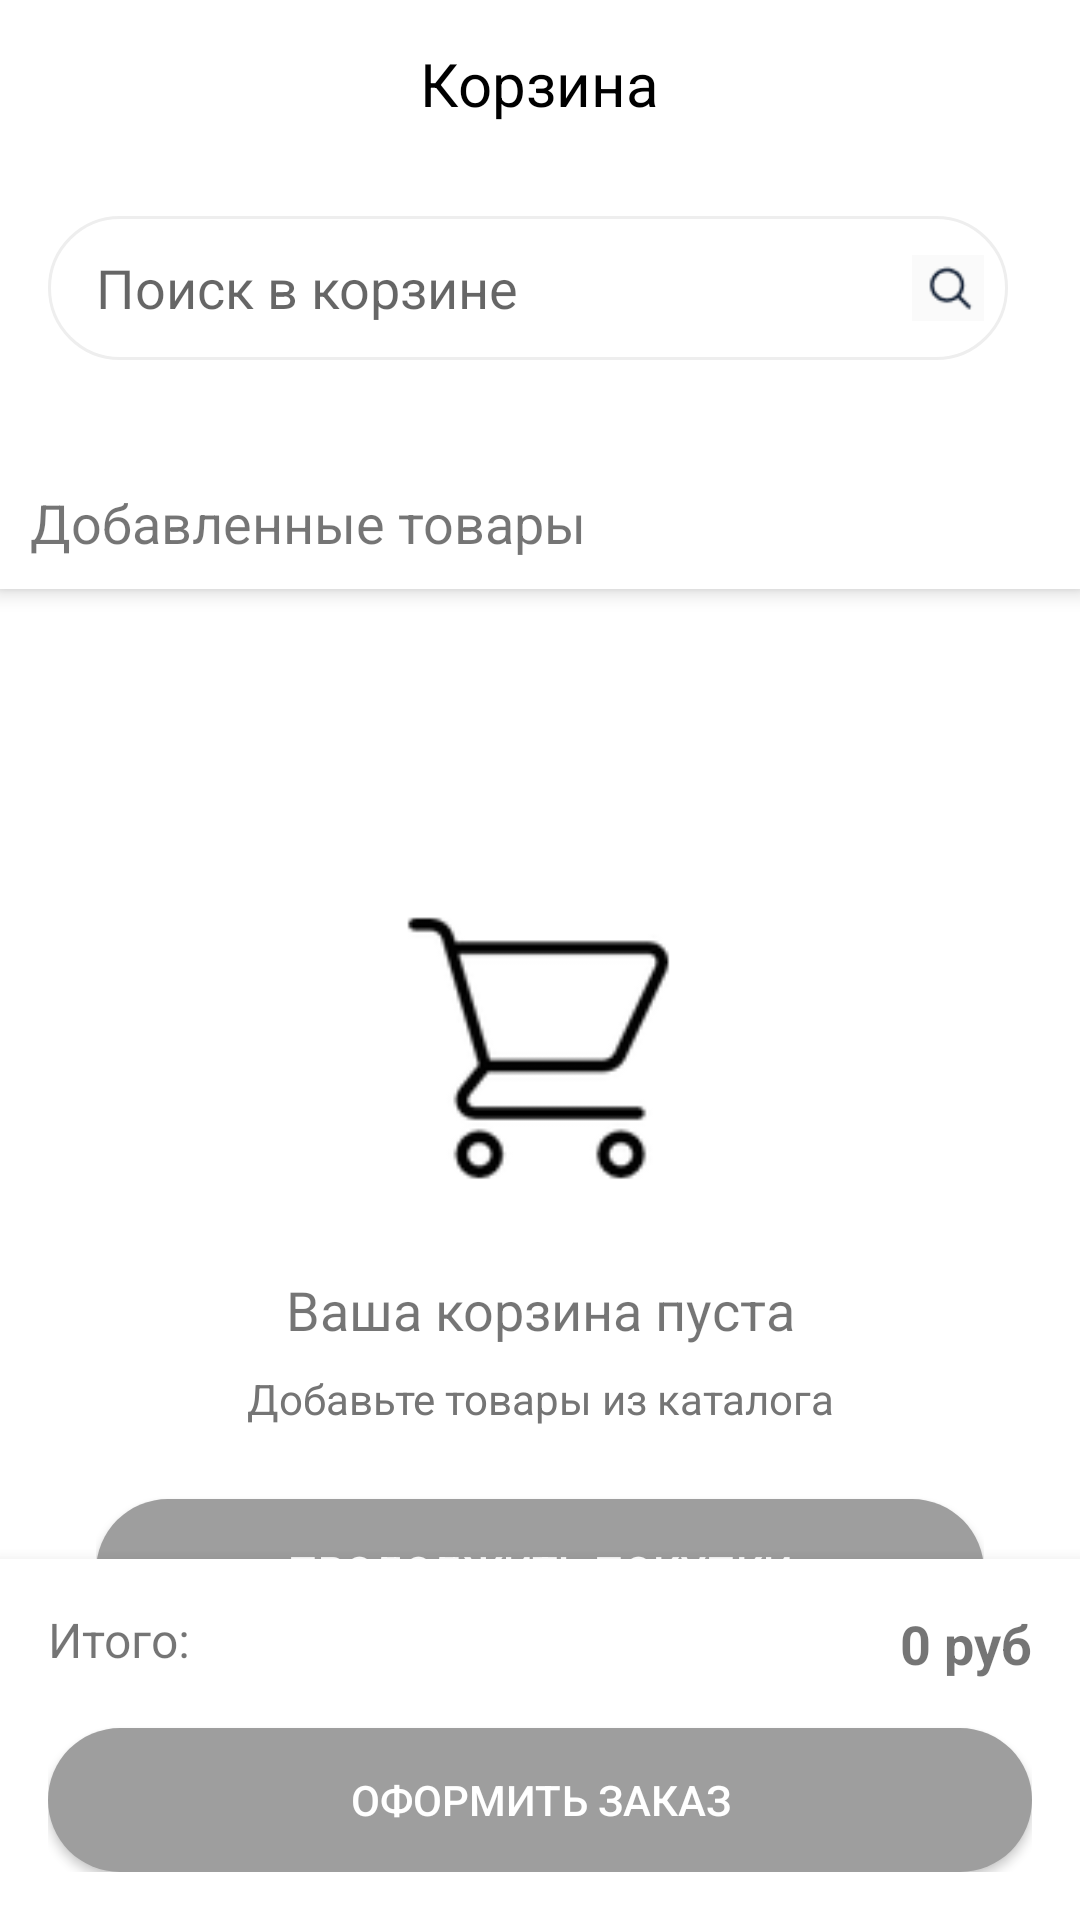

Point at icon controls on the screen. Image size 1080px x 1920px, points as point (x, y).
cart: point (538, 1048)
search: point (950, 288)
